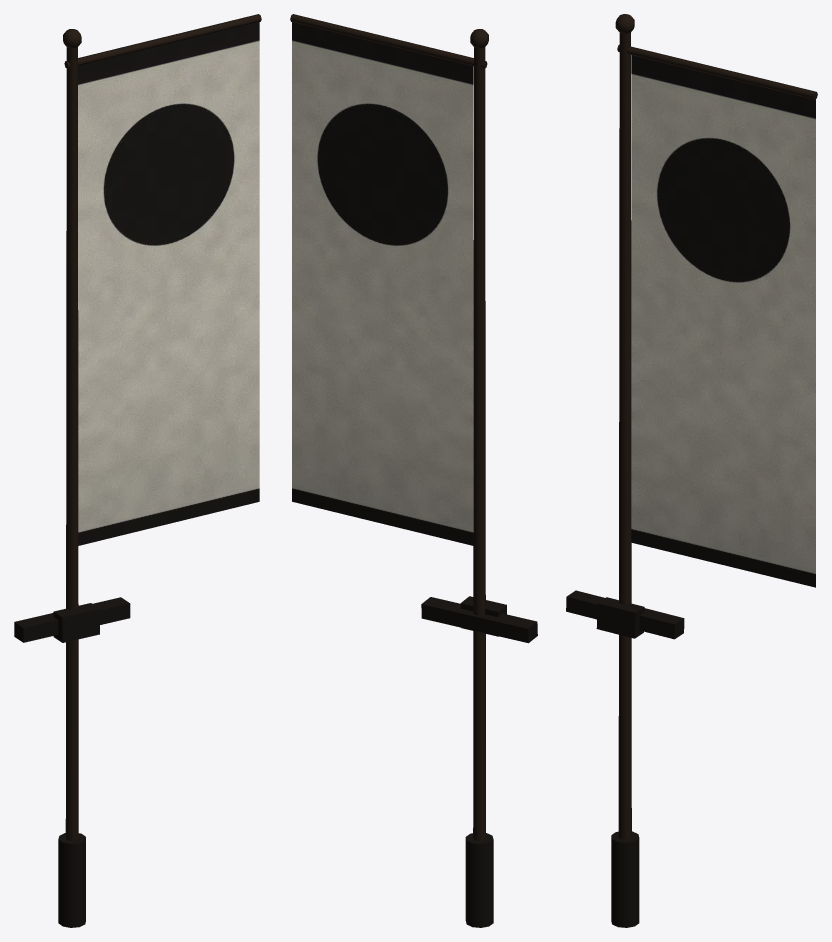
The model's file is sashimono_ashigaru_simple.glb.
3 renders of one model, left to right at view 1: azimuth 30°, elevation 25°; view 2: azimuth 150°, elevation 25°; view 3: azimuth 330°, elevation 25°, orthographic.
Visible parts, largest first — view 1: _MeshInstance3D_370, _MeshInstance3D_367, _MeshInstance3D_373, _MeshInstance3D_376, _MeshInstance3D_368, _MeshInstance3D_375; view 2: _MeshInstance3D_370, _MeshInstance3D_367, _MeshInstance3D_373, _MeshInstance3D_376, _MeshInstance3D_368; view 3: _MeshInstance3D_370, _MeshInstance3D_367, _MeshInstance3D_373, _MeshInstance3D_376, _MeshInstance3D_368, _MeshInstance3D_375.
Boxes of the visible parts, x1,y1,x2,y2 form: _MeshInstance3D_370: (78, 22, 259, 545); _MeshInstance3D_367: (65, 47, 78, 840); _MeshInstance3D_373: (58, 833, 85, 927); _MeshInstance3D_376: (14, 597, 130, 642); _MeshInstance3D_368: (64, 14, 261, 68); _MeshInstance3D_375: (53, 603, 99, 642); _MeshInstance3D_370: (292, 22, 473, 545); _MeshInstance3D_367: (473, 47, 485, 840); _MeshInstance3D_373: (465, 833, 493, 927); _MeshInstance3D_376: (421, 597, 537, 643); _MeshInstance3D_368: (290, 14, 487, 68); _MeshInstance3D_370: (631, 55, 815, 587); _MeshInstance3D_367: (618, 33, 631, 839); _MeshInstance3D_373: (611, 831, 639, 927); _MeshInstance3D_376: (566, 590, 684, 639); _MeshInstance3D_368: (617, 44, 817, 99); _MeshInstance3D_375: (596, 597, 644, 638).
Bounding box in the file's own units: 0.4512 × 1.6 × 0.0528.
3 materials, 1 textured.
